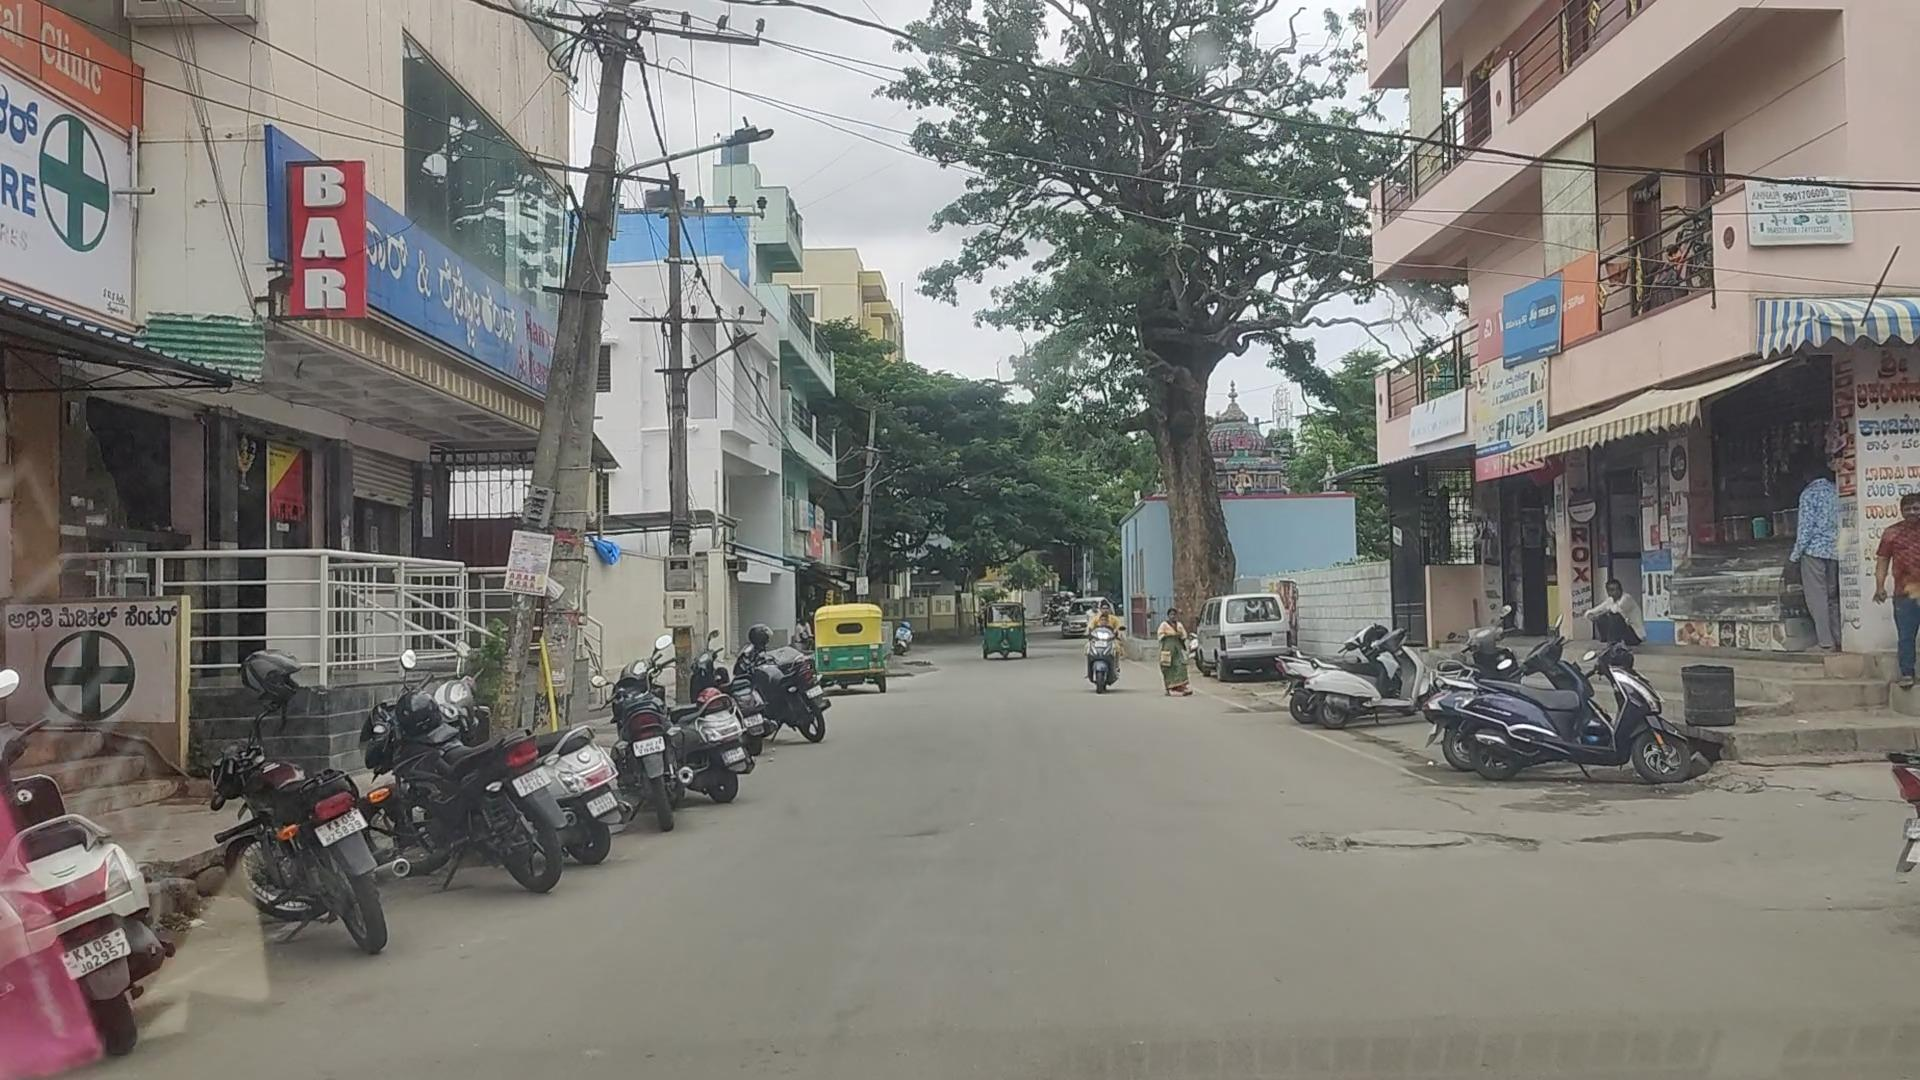LMV: (0, 578, 411, 1080)
RoadDamages: (1279, 798, 1535, 873)
